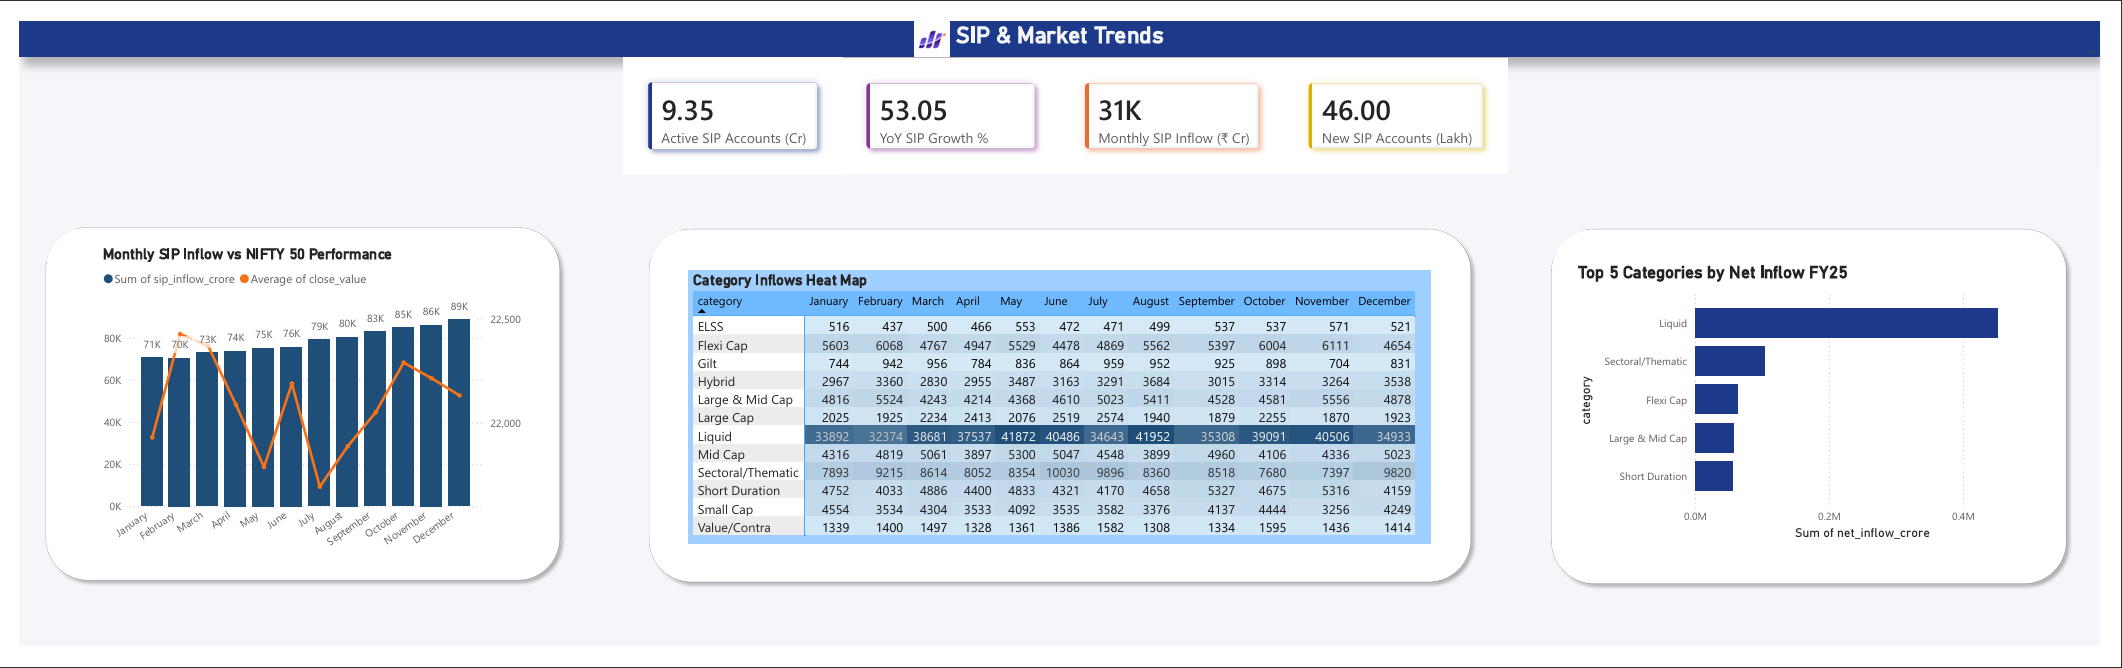

Layout of this report page (visuals, bound fields, positions):
{"tool":"powerbi","page":{"name":"SIP & Market Trends","canvas":[2400,720],"ordinal":3},"visuals":[{"type":"textbox","title":"SIP & Market Trends","box":[0,0,2400,41.2],"z":0},{"type":"cardVisual","fields":{"Data":["Max(04_monthly_sip_inflows_cleaned.active_sip_accounts_crore)"]},"box":[695.7,41.4,252.9,134.3],"z":1000},{"type":"cardVisual","fields":{"Data":["Max(04_monthly_sip_inflows_cleaned.yoy_growth_pct)"]},"box":[948.3,41.7,251.7,133.3],"z":2000},{"type":"cardVisual","fields":{"Data":["Max(04_monthly_sip_inflows_cleaned.sip_inflow_crore)"]},"box":[1200,41.7,258.3,133.3],"z":3000},{"type":"shape","box":[21.1,227.8,611.1,425.6],"z":4000},{"type":"shape","box":[1758.3,230,611.7,426.7],"z":5000},{"type":"shape","box":[716.7,230,966.7,425],"z":6000},{"type":"cardVisual","fields":{"Data":["Max(04_monthly_sip_inflows_cleaned.new_sip_accounts_lakh)"]},"box":[1458.3,41.7,258.3,133.3],"z":7000},{"type":"lineClusteredColumnComboChart","title":"Monthly SIP Inflow vs NIFTY 50 Performance","fields":{"Category":["04_monthly_sip_inflows_cleaned.month.Variation.Date Hierarchy.Month"],"Y":["Sum(04_monthly_sip_inflows_cleaned.sip_inflow_crore)"],"Y2":["Avg(10_benchmark_indices_cleaned.close_value)"]},"box":[91.1,256.7,492.2,370],"z":8000},{"type":"pivotTable","title":"Category Inflows Heat Map","fields":{"Rows":["05_category_inflows_cleaned.category"],"Columns":["05_category_inflows_cleaned.month.Variation.Date Hierarchy.Month"],"Values":["Sum(05_category_inflows_cleaned.net_inflow_crore)"]},"box":[771.7,286.7,856.7,315],"z":9000},{"type":"clusteredBarChart","title":"Top 5 Categories by Net Inflow FY25","fields":{"Category":["05_category_inflows_cleaned.category"],"Y":["Sum(05_category_inflows_cleaned.net_inflow_crore)"]},"box":[1793.3,278.3,545,323.3],"z":10000},{"type":"image","box":[1012.9,0,78.6,41.4],"z":10001}]}

Visuals, with their boxes on the page's 2400x720 design canvas (x1, y1, x2, y2). These are canvas units, not pixel positions in the 2122x668 screenshot, which may show the page scaled, cropped or inside an application window:
"SIP & Market Trends" textbox: bbox(0, 0, 2400, 41)
cardVisual - Max(04_monthly_sip_inflows_cleaned.active_sip_accounts_crore): bbox(696, 41, 949, 176)
cardVisual - Max(04_monthly_sip_inflows_cleaned.yoy_growth_pct): bbox(948, 42, 1200, 175)
cardVisual - Max(04_monthly_sip_inflows_cleaned.sip_inflow_crore): bbox(1200, 42, 1458, 175)
shape: bbox(21, 228, 632, 653)
shape: bbox(1758, 230, 2370, 657)
shape: bbox(717, 230, 1683, 655)
cardVisual - Max(04_monthly_sip_inflows_cleaned.new_sip_accounts_lakh): bbox(1458, 42, 1717, 175)
"Monthly SIP Inflow vs NIFTY 50 Performance" lineClusteredColumnComboChart: bbox(91, 257, 583, 627)
"Category Inflows Heat Map" pivotTable: bbox(772, 287, 1628, 602)
"Top 5 Categories by Net Inflow FY25" clusteredBarChart: bbox(1793, 278, 2338, 602)
image: bbox(1013, 0, 1092, 41)
